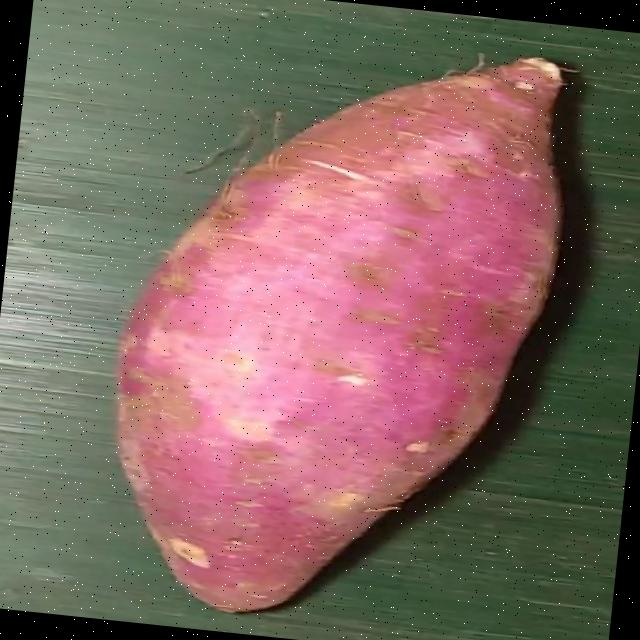Sweet Potato: (115, 55, 566, 611)
